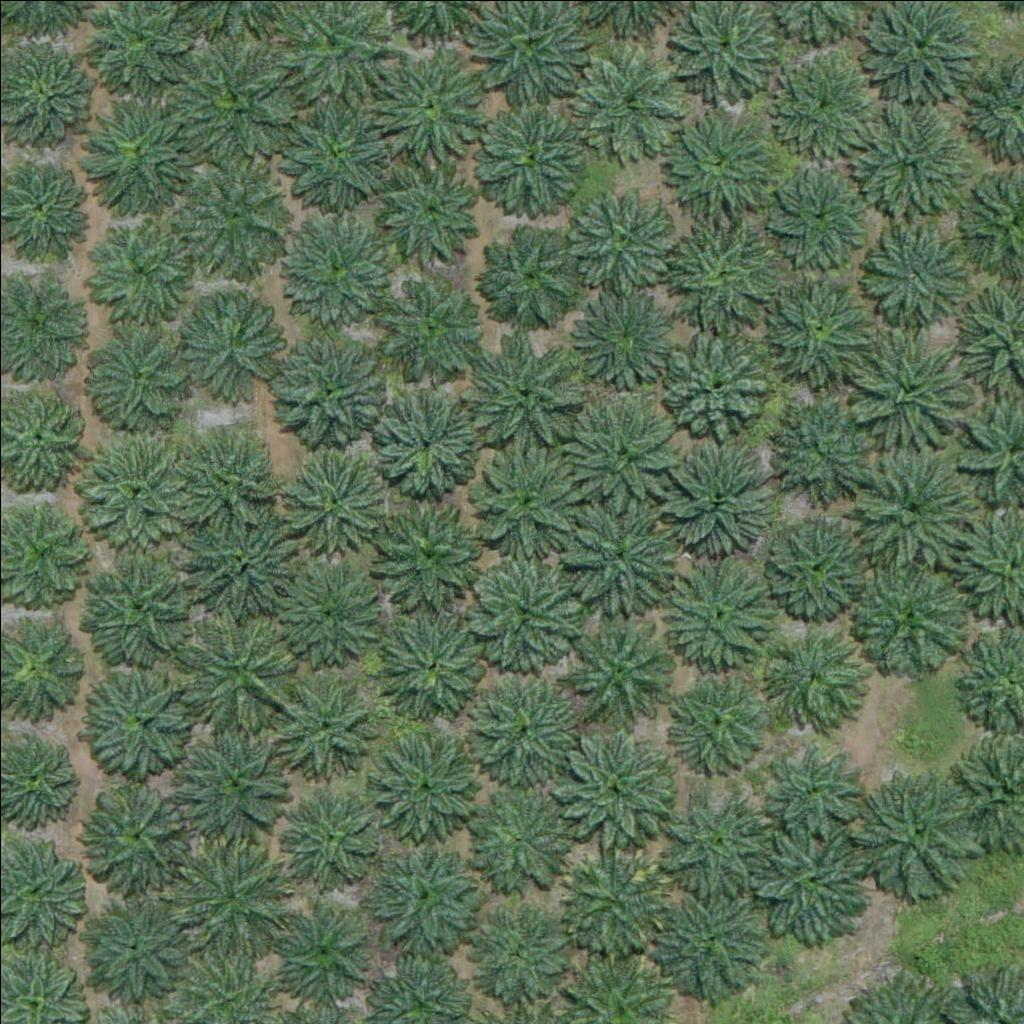Kelapa_Sawit: (78, 421, 203, 547), (750, 816, 875, 942), (856, 763, 981, 889), (849, 445, 974, 571), (847, 555, 972, 681), (661, 204, 786, 330), (651, 94, 776, 220), (845, 329, 970, 455), (82, 888, 195, 1002), (80, 211, 193, 325), (176, 289, 289, 403), (87, 98, 200, 212), (849, 104, 962, 218), (375, 49, 488, 163), (178, 620, 291, 733), (186, 507, 299, 620), (277, 442, 390, 555), (373, 731, 486, 844), (555, 735, 668, 848), (558, 608, 671, 721), (564, 495, 677, 608), (665, 561, 778, 674), (565, 387, 678, 500), (471, 444, 584, 557), (179, 155, 292, 268), (366, 150, 479, 263), (473, 104, 586, 217), (467, 329, 580, 442), (571, 284, 684, 397), (771, 49, 884, 162), (83, 780, 195, 894), (88, 667, 200, 781), (174, 841, 286, 955), (665, 438, 777, 552), (83, 322, 195, 436), (271, 334, 383, 448), (572, 48, 684, 162), (83, 556, 195, 669), (181, 723, 293, 836), (378, 610, 490, 723), (371, 492, 483, 605), (465, 783, 577, 896), (464, 673, 576, 786), (466, 557, 578, 670), (368, 379, 480, 492), (376, 262, 488, 375), (280, 201, 392, 314), (276, 99, 388, 212), (563, 175, 675, 288), (657, 326, 769, 439), (762, 272, 874, 385), (179, 45, 291, 158), (274, 898, 374, 999), (281, 787, 381, 888), (277, 680, 377, 781), (279, 563, 379, 664), (373, 845, 473, 946), (470, 902, 570, 1003), (564, 852, 664, 953), (654, 890, 754, 991), (666, 792, 766, 893), (670, 671, 770, 772), (764, 739, 864, 840), (478, 224, 578, 325), (771, 156, 871, 257), (859, 216, 959, 317), (766, 625, 866, 725), (768, 516, 868, 616), (783, 393, 883, 493), (195, 441, 270, 516)
